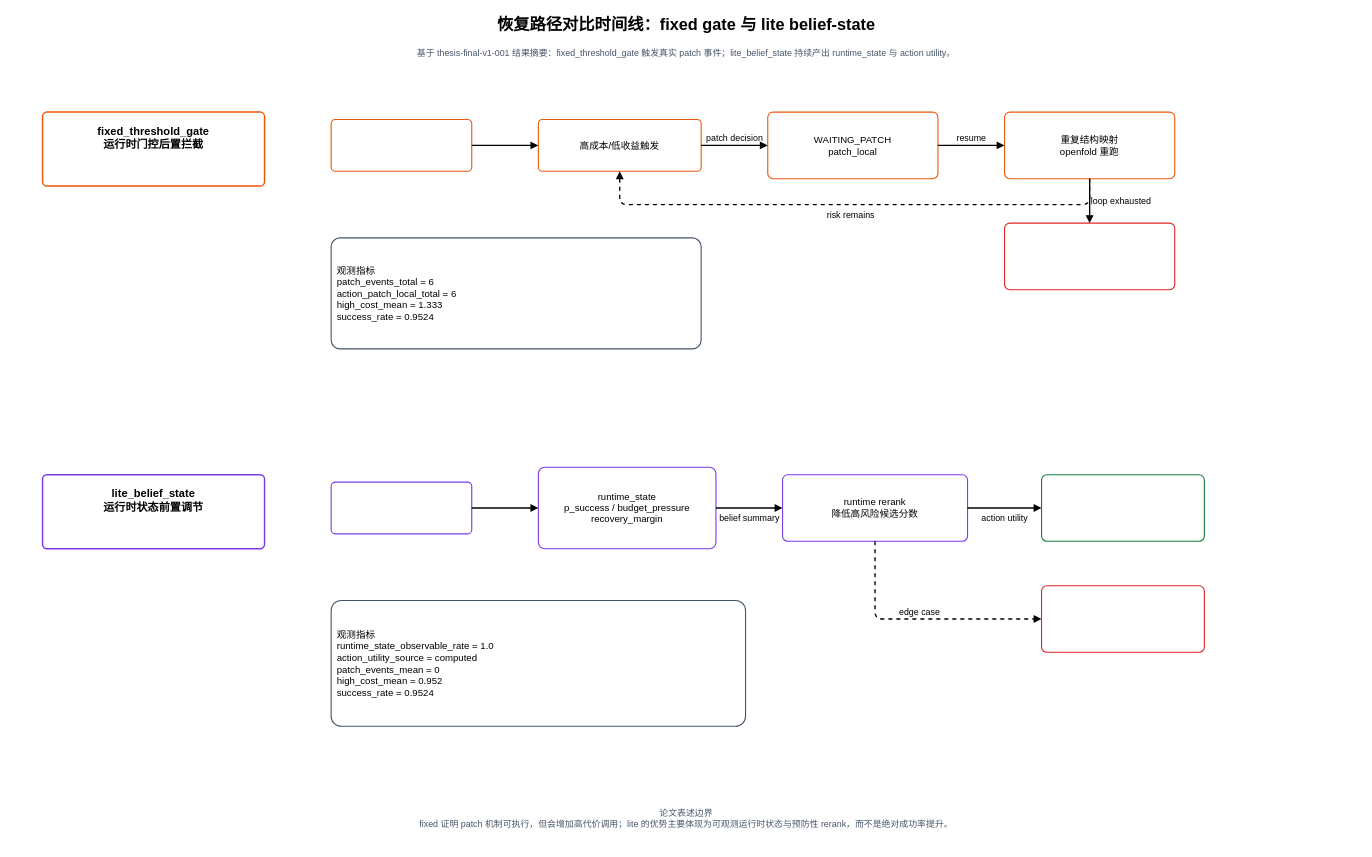
The diagram is 1372 pixels wide and 857 high, and some of its shapes have lost their labels. Here are the shapes that lost their labels. From the top down, the centre of each, then its label:
(401,145): 候选执行
(1089,256): 可能进入循环耗尽 1 个 FAILED 案例
(401,507): 生成候选 Top-K
(1123,508): 选择 continue 避免真实 patch
(1123,619): 边界案例 仍可能 WAITING_PATCH 循环
